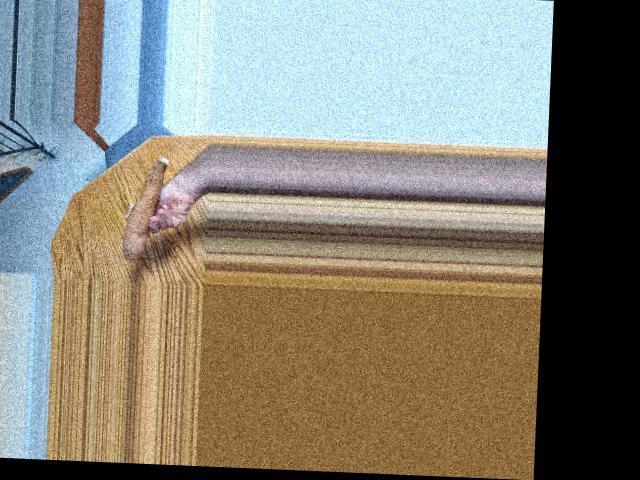sweet_potato: (117, 156, 179, 258)
